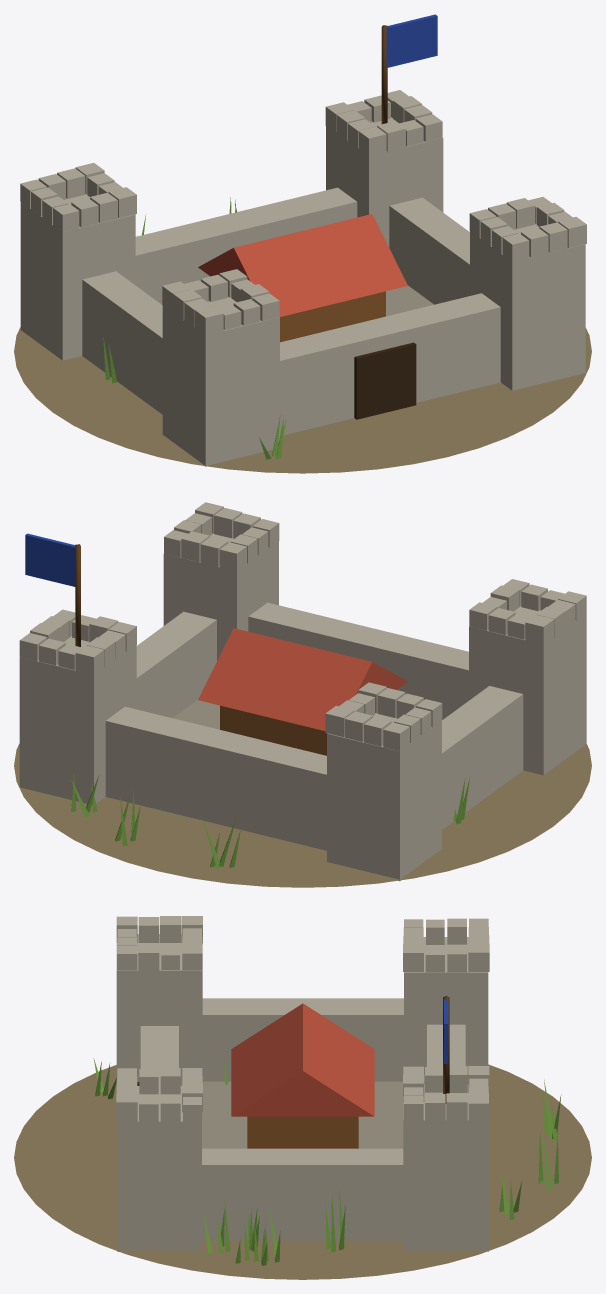
Rendered from improvement_fort.fbx.
3 views of the same model, one above another, from view 1: azimuth 30°, elevation 25°; view 2: azimuth 150°, elevation 25°; view 3: azimuth 270°, elevation 25° (orthographic).
Visible parts, largest first — view 1: improvement_fort_castle_02, improvement_fort_gpatch#8a7a5ar_00, improvement_fort_tiles_06, improvement_fort_gate_04, improvement_fort_wood#8a5a2c.006_05, improvement_fort_flag#2a4aa8_08, improvement_fort_ftop_03, improvement_fort_leaf#6a9a3a.005_01, improvement_fort_wood#5a3c1c_07; view 2: improvement_fort_castle_02, improvement_fort_gpatch#8a7a5ar_00, improvement_fort_tiles_06, improvement_fort_wood#8a5a2c.006_05, improvement_fort_flag#2a4aa8_08, improvement_fort_leaf#6a9a3a.005_01, improvement_fort_ftop_03, improvement_fort_wood#5a3c1c_07; view 3: improvement_fort_castle_02, improvement_fort_gpatch#8a7a5ar_00, improvement_fort_tiles_06, improvement_fort_ftop_03, improvement_fort_leaf#6a9a3a.005_01, improvement_fort_wood#8a5a2c.006_05.
Part boxes in pixels (<box>): improvement_fort_castle_02: <box>20,90,586,466</box>; improvement_fort_gpatch#8a7a5ar_00: <box>14,327,591,473</box>; improvement_fort_tiles_06: <box>198,214,407,316</box>; improvement_fort_gate_04: <box>354,342,416,419</box>; improvement_fort_wood#8a5a2c.006_05: <box>280,291,385,342</box>; improvement_fort_flag#2a4aa8_08: <box>386,14,437,67</box>; improvement_fort_ftop_03: <box>386,285,433,316</box>; improvement_fort_leaf#6a9a3a.005_01: <box>103,197,286,459</box>; improvement_fort_wood#5a3c1c_07: <box>381,25,387,124</box>; improvement_fort_castle_02: <box>19,502,586,881</box>; improvement_fort_gpatch#8a7a5ar_00: <box>14,743,591,887</box>; improvement_fort_tiles_06: <box>198,628,407,730</box>; improvement_fort_wood#8a5a2c.006_05: <box>220,705,326,755</box>; improvement_fort_flag#2a4aa8_08: <box>25,533,75,586</box>; improvement_fort_leaf#6a9a3a.005_01: <box>71,773,470,868</box>; improvement_fort_ftop_03: <box>173,700,219,729</box>; improvement_fort_wood#5a3c1c_07: <box>75,544,80,646</box>; improvement_fort_castle_02: <box>116,916,489,1251</box>; improvement_fort_gpatch#8a7a5ar_00: <box>14,1064,591,1279</box>; improvement_fort_tiles_06: <box>231,1003,374,1116</box>; improvement_fort_ftop_03: <box>202,1081,403,1148</box>; improvement_fort_leaf#6a9a3a.005_01: <box>93,1058,561,1265</box>; improvement_fort_wood#8a5a2c.006_05: <box>247,1116,358,1148</box>.
Bounding box in the file's own units: 137 × 62.38 × 137.
